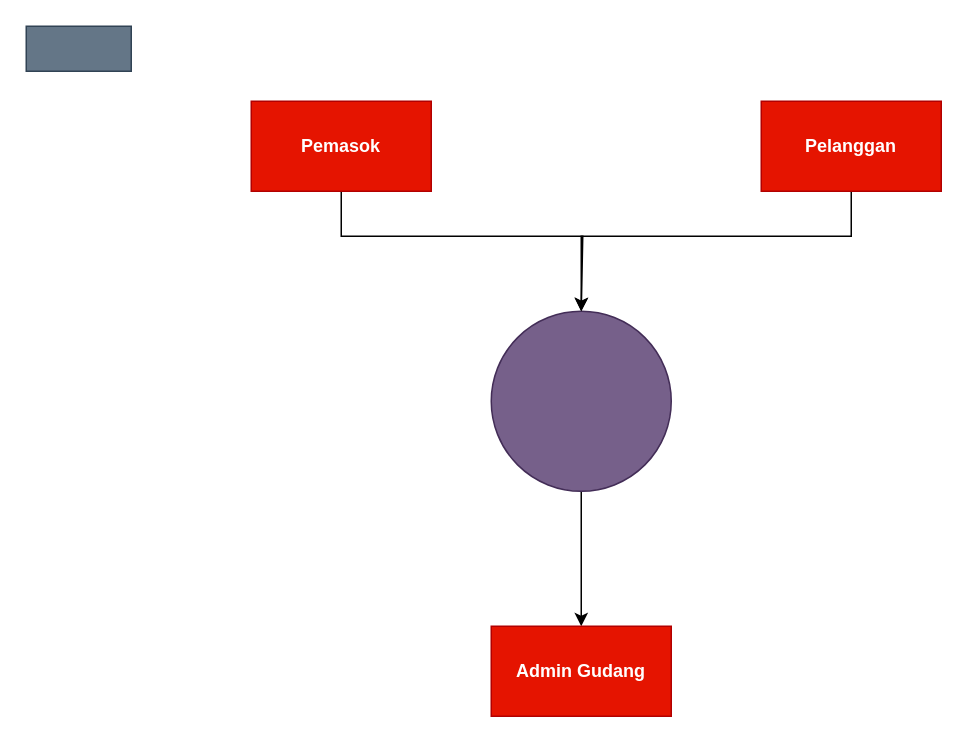
The diagram is 968 pixels wide and 743 high, and some of its shapes have lost their labels. The centre of each missing label's shape, as x and y in pixels:
"LEVEL 0" belongs at (x=78, y=48).
"Sistem Manajemen Inventory" belongs at (x=580, y=400).
